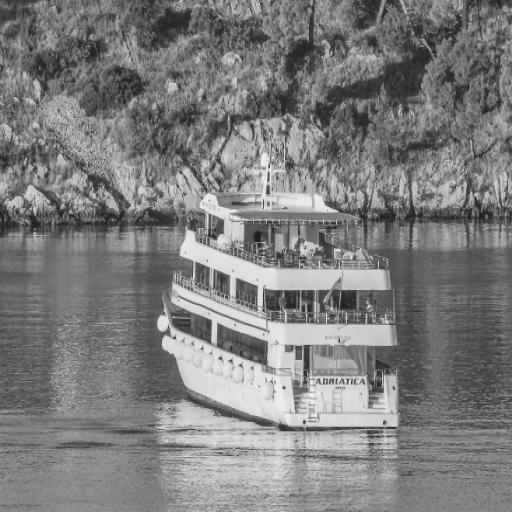cruises: (157, 147, 407, 439)
